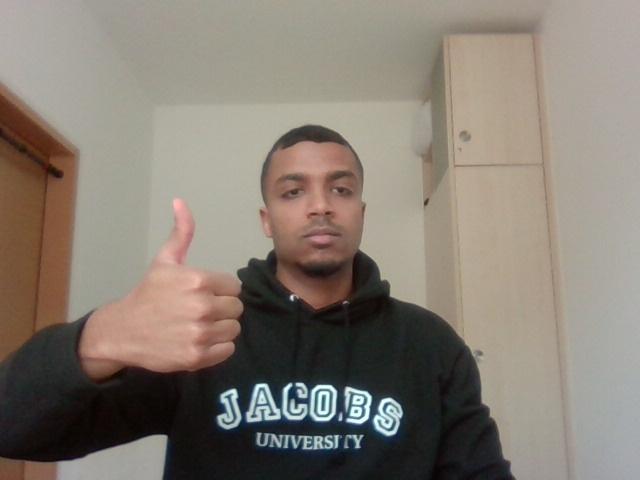perfect: (101, 187, 249, 397)
